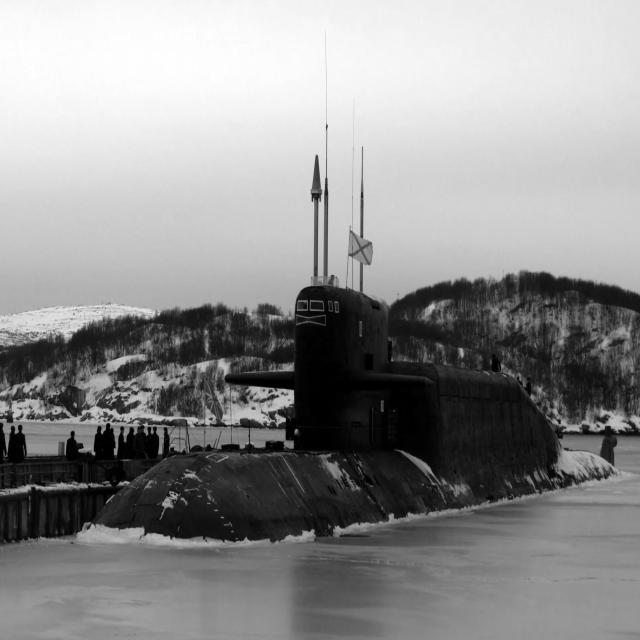submarine: (67, 104, 629, 567)
